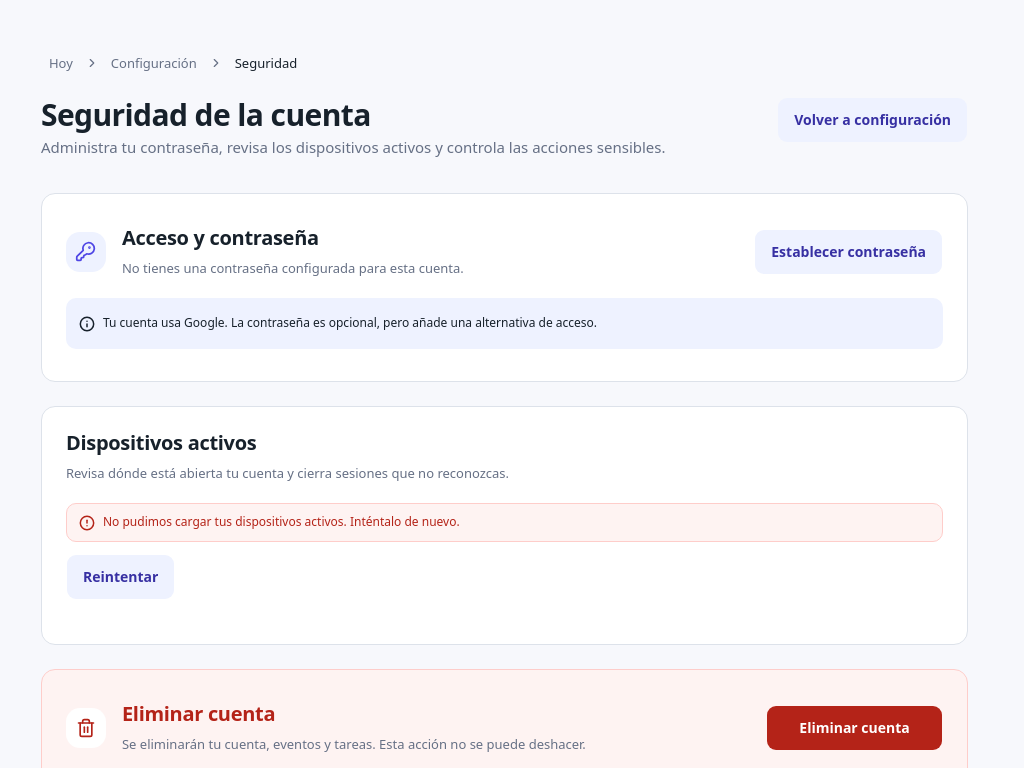
Test case: SecurityPage › permite reintentar una carga fallida sin mostrar un vacío engañoso
Expected: the text "No pudimos cargar tus dispositivos activos. Inténtalo de nuevo." is shown, [103,514,460,530]
What coordinates should you click on to do the following:
click the button "Reintentar"
I would click on:
 (121, 577)
Its box is [66,554,175,600].
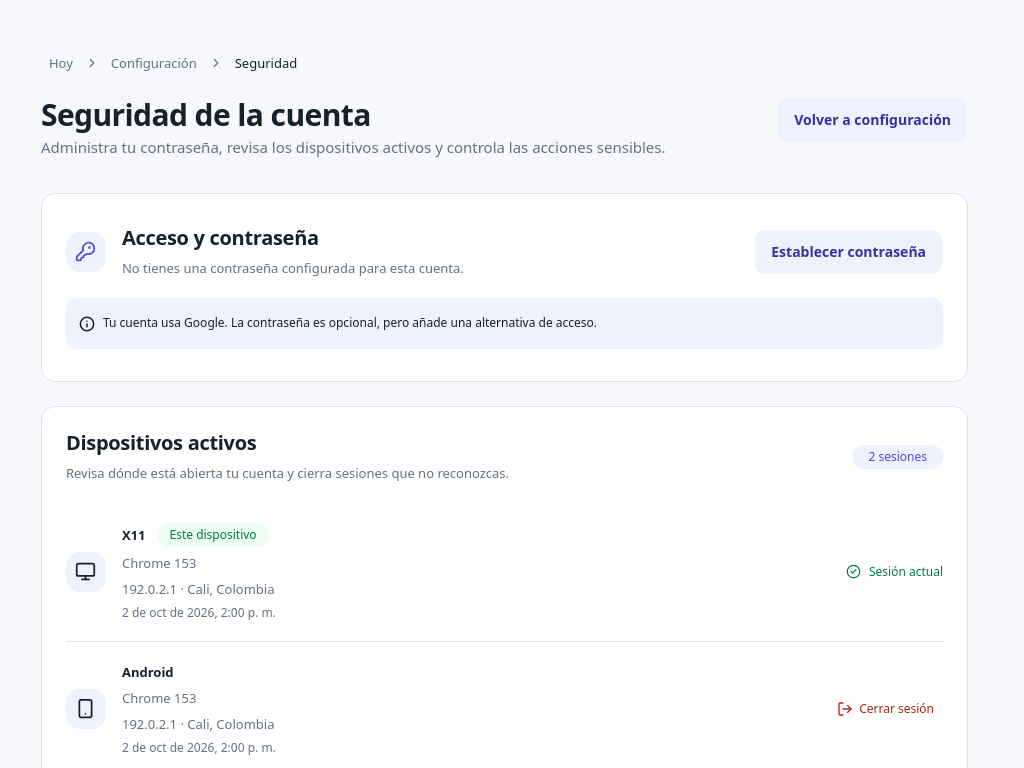
Expected: the text "2 sesiones" is shown, [852,445,943,469]
